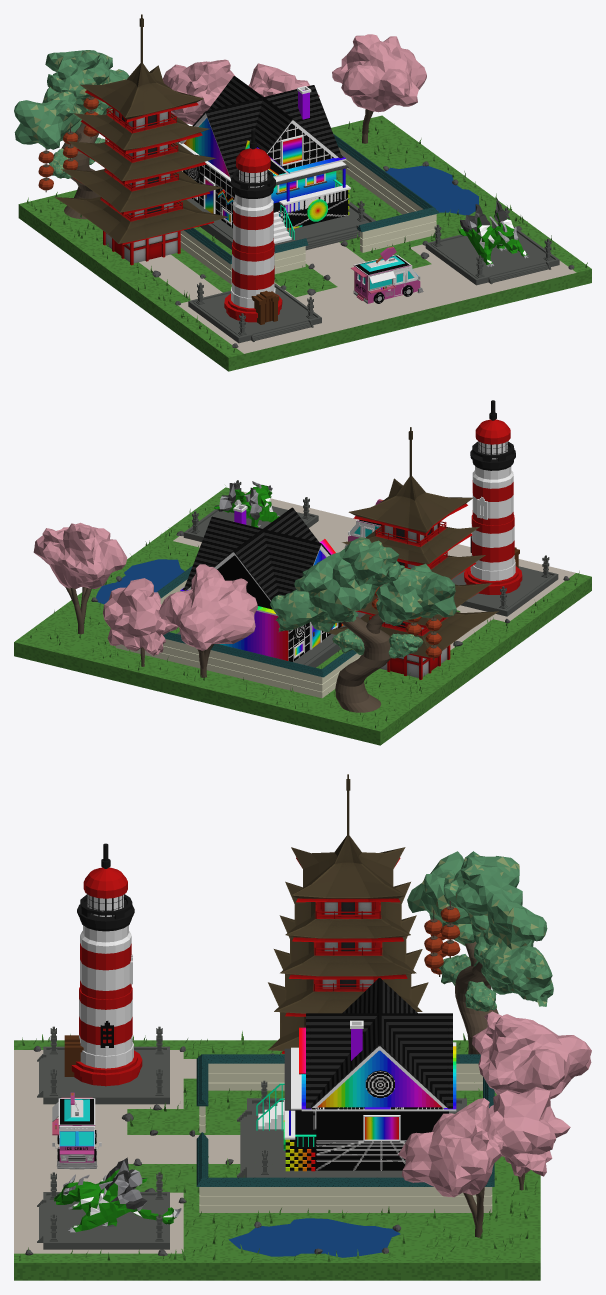
3 views of the same model, one above another, from view 1: azimuth 30°, elevation 25°; view 2: azimuth 150°, elevation 25°; view 3: azimuth 270°, elevation 25° (orthographic). The views are drawn at different scales.
Visible parts, largest first — view 1: Cube.005, Cube.1320, OBJRANDOM_LIGHTHOUSE, VEHICLES_ICE_CREAM_TRUCK, ANIMAL_DRAGON; view 2: Cube.005, Cube.1320, OBJRANDOM_LIGHTHOUSE, ANIMAL_DRAGON, VEHICLES_ICE_CREAM_TRUCK; view 3: Cube.005, Cube.1320, OBJRANDOM_LIGHTHOUSE, ANIMAL_DRAGON, VEHICLES_ICE_CREAM_TRUCK.
Boxes of the visible parts, <box> form: Cube.005: <box>14,14,591,371</box>; Cube.1320: <box>177,76,350,243</box>; OBJRANDOM_LIGHTHOUSE: <box>224,129,282,324</box>; VEHICLES_ICE_CREAM_TRUCK: <box>351,246,423,303</box>; ANIMAL_DRAGON: <box>459,199,529,266</box>; Cube.005: <box>14,427,591,745</box>; Cube.1320: <box>180,504,343,661</box>; OBJRANDOM_LIGHTHOUSE: <box>464,400,522,594</box>; ANIMAL_DRAGON: <box>214,481,279,527</box>; VEHICLES_ICE_CREAM_TRUCK: <box>344,499,383,547</box>; Cube.005: <box>14,774,591,1280</box>; Cube.1320: <box>256,978,456,1171</box>; OBJRANDOM_LIGHTHOUSE: <box>64,843,142,1086</box>; ANIMAL_DRAGON: <box>54,1157,181,1232</box>; VEHICLES_ICE_CREAM_TRUCK: <box>52,1092,101,1169</box>.
Bounding box in the file's own units: 4528 × 2690 × 4389.
Materials: 49 (7 with a texture image).
